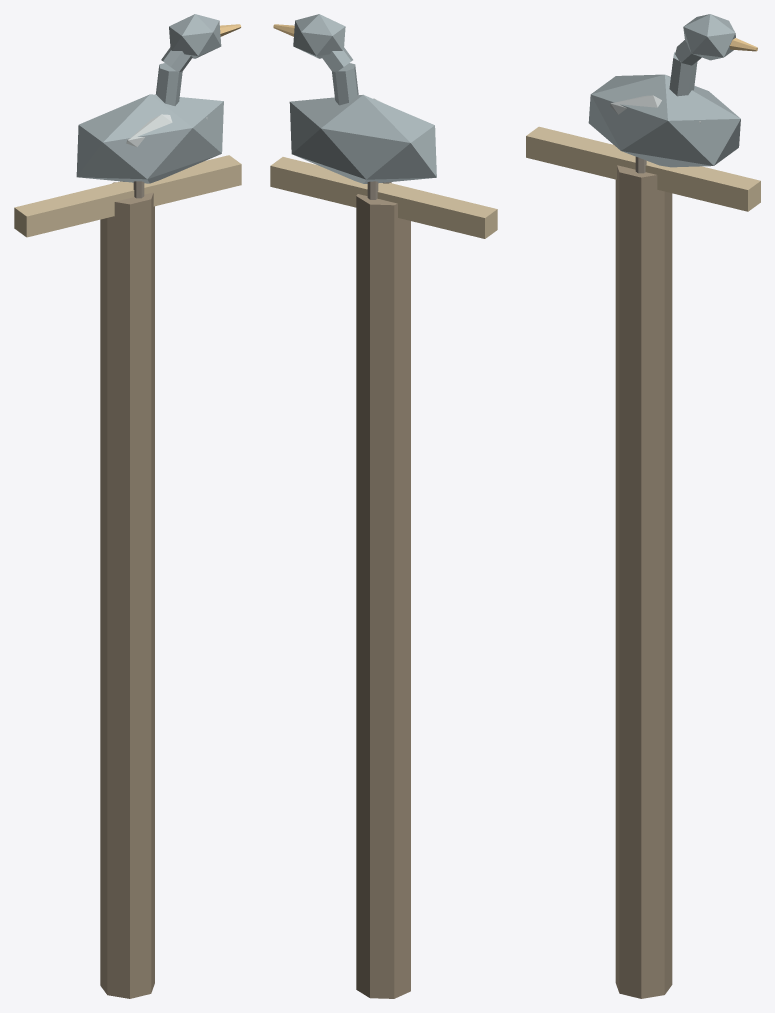
File: heron_pole_far-B6NwyP_L.glb
3 views of the same model, side by side, from view 1: azimuth 30°, elevation 25°; view 2: azimuth 150°, elevation 25°; view 3: azimuth 330°, elevation 25° (orthographic). The views are drawn at different scales.
Visible parts, largest first — view 1: heron_pole_far; view 2: heron_pole_far; view 3: heron_pole_far.
Part boxes in pixels (left/top/right/bottom): heron_pole_far: left=14, top=14, right=241, bottom=998; heron_pole_far: left=270, top=14, right=497, bottom=998; heron_pole_far: left=526, top=14, right=760, bottom=998.
Bounding box in the file's own units: 3.05 × 12.78 × 0.9527.
